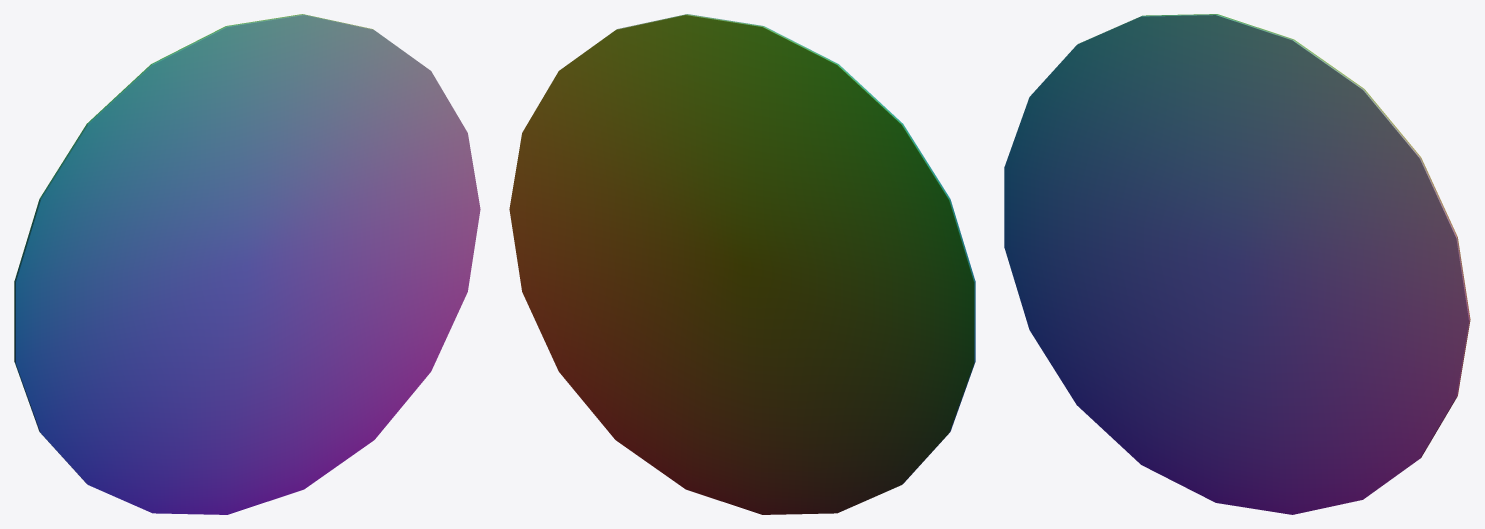
File: zeometry-flat-shapes-flat-oval_v3.glb
The picture shows the model from 3 angles, left to right: view 1: azimuth 30°, elevation 25°; view 2: azimuth 150°, elevation 25°; view 3: azimuth 330°, elevation 25°; orthographic projection.
Parts seen in each view (by area): view 1: Flat Oval_v3; view 2: Flat Oval_v3; view 3: Flat Oval_v3.
Part boxes in pixels (left/top/right/bottom): Flat Oval_v3: left=14, top=14, right=480, bottom=514; Flat Oval_v3: left=509, top=14, right=975, bottom=514; Flat Oval_v3: left=1004, top=14, right=1470, bottom=514.
Bounding box in the file's own units: 0.4983 × 0.5 × 0.00281.
